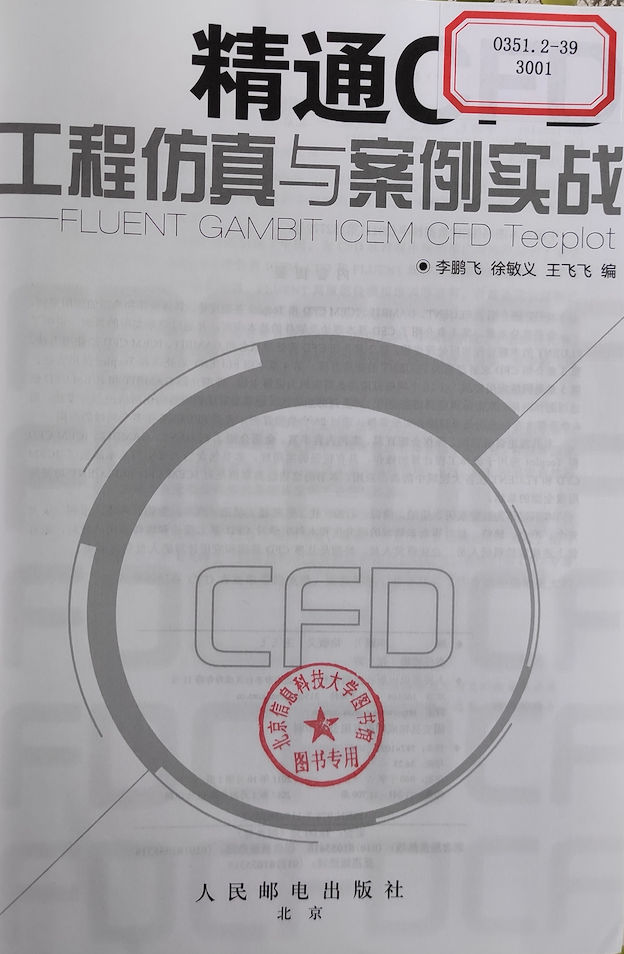Text_area: (7, 11, 624, 285), (190, 528, 486, 778), (179, 855, 426, 954)
